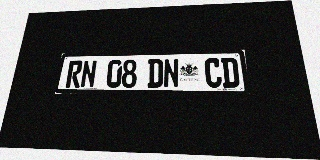0: (106, 60, 123, 88)
8: (121, 59, 138, 88)
C: (204, 58, 222, 88)
D: (221, 58, 240, 88), (147, 59, 163, 88)
N: (80, 60, 97, 88), (163, 59, 179, 88)
R: (65, 60, 83, 88)
